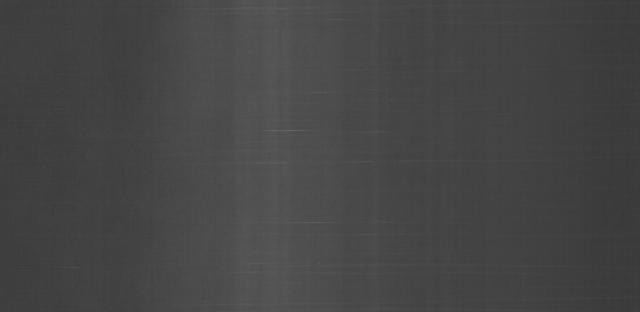waist_folding: (197, 38, 389, 292)
